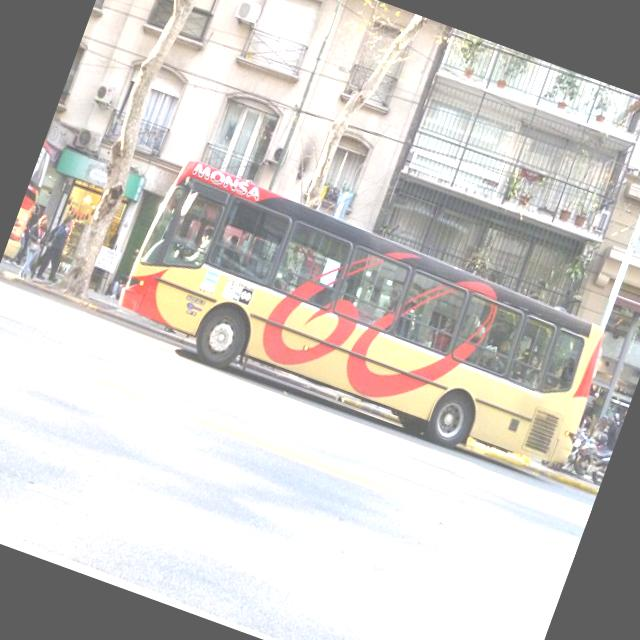Vehicle: (108, 155, 622, 490), (1, 128, 66, 266), (556, 414, 620, 486)
